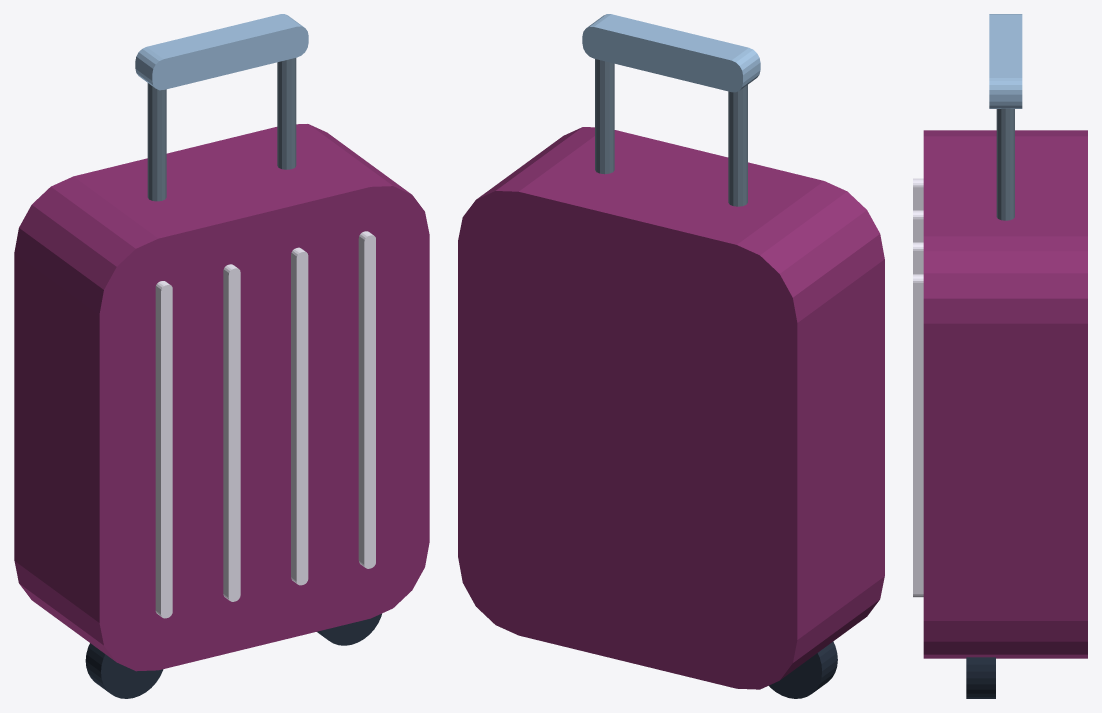
File: suitcase.glb
The picture shows the model from 3 angles, left to right: view 1: azimuth 30°, elevation 25°; view 2: azimuth 150°, elevation 25°; view 3: azimuth 270°, elevation 25°; orthographic projection. The views are drawn at different scales.
Visible parts, largest first — view 1: hard shell, handle grip, rib 1, rib 0, rib 2, rib 3, telescopic -0.22, telescopic 0.22, caster -0.37, caster 0.37; view 2: hard shell, handle grip, telescopic -0.22, telescopic 0.22, caster -0.37; view 3: hard shell, rib 3, handle grip, telescopic 0.22, caster 0.37, rib 0, rib 1, rib 2.
Boxes of the visible parts, <box> form: hard shell: <box>14,124,429,671</box>; handle grip: <box>135,14,308,90</box>; rib 1: <box>223,264,240,601</box>; rib 0: <box>155,281,172,618</box>; rib 2: <box>291,247,308,585</box>; rib 3: <box>358,231,375,568</box>; telescopic -0.22: <box>147,83,166,201</box>; telescopic 0.22: <box>277,58,296,169</box>; caster -0.37: <box>85,643,163,698</box>; caster 0.37: <box>317,613,381,645</box>; hard shell: <box>458,127,884,689</box>; handle grip: <box>582,14,760,92</box>; telescopic -0.22: <box>728,85,747,206</box>; telescopic 0.22: <box>595,59,614,174</box>; caster -0.37: <box>769,641,837,698</box>; hard shell: <box>923,130,1087,658</box>; rib 3: <box>913,274,923,597</box>; handle grip: <box>989,14,1022,108</box>; telescopic 0.22: <box>996,108,1014,220</box>; caster 0.37: <box>966,657,995,698</box>; rib 0: <box>913,178,923,210</box>; rib 1: <box>913,210,923,242</box>; rib 2: <box>913,242,923,274</box>.
Size of the model in its own units: 1.12 by 2.01 by 0.5325.
